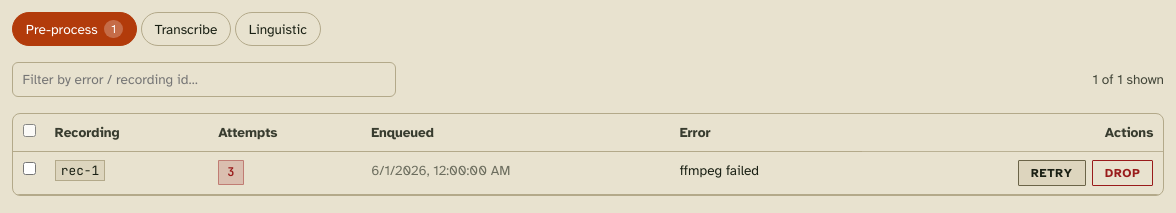
Test: DlqList (#107) › switches stages and re-queries
Expected: the text "rec-1" is shown, [55,160,105,181]
What coordinates should you click on to do the following:
click the tab "Transcribe"
I would click on:
 (186, 29)
Its box is [141,12,231,46].
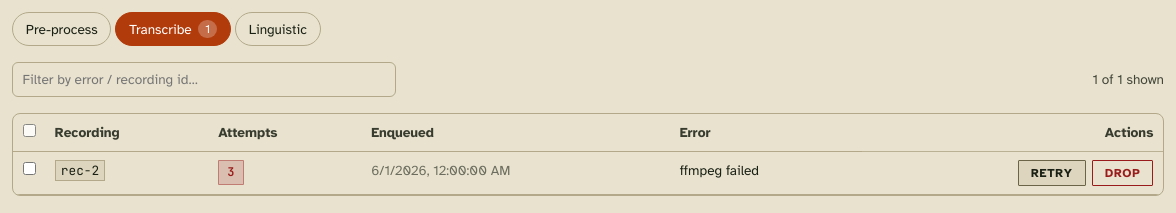
Expected: the text "rec-2" is shown, [55,160,105,181]
